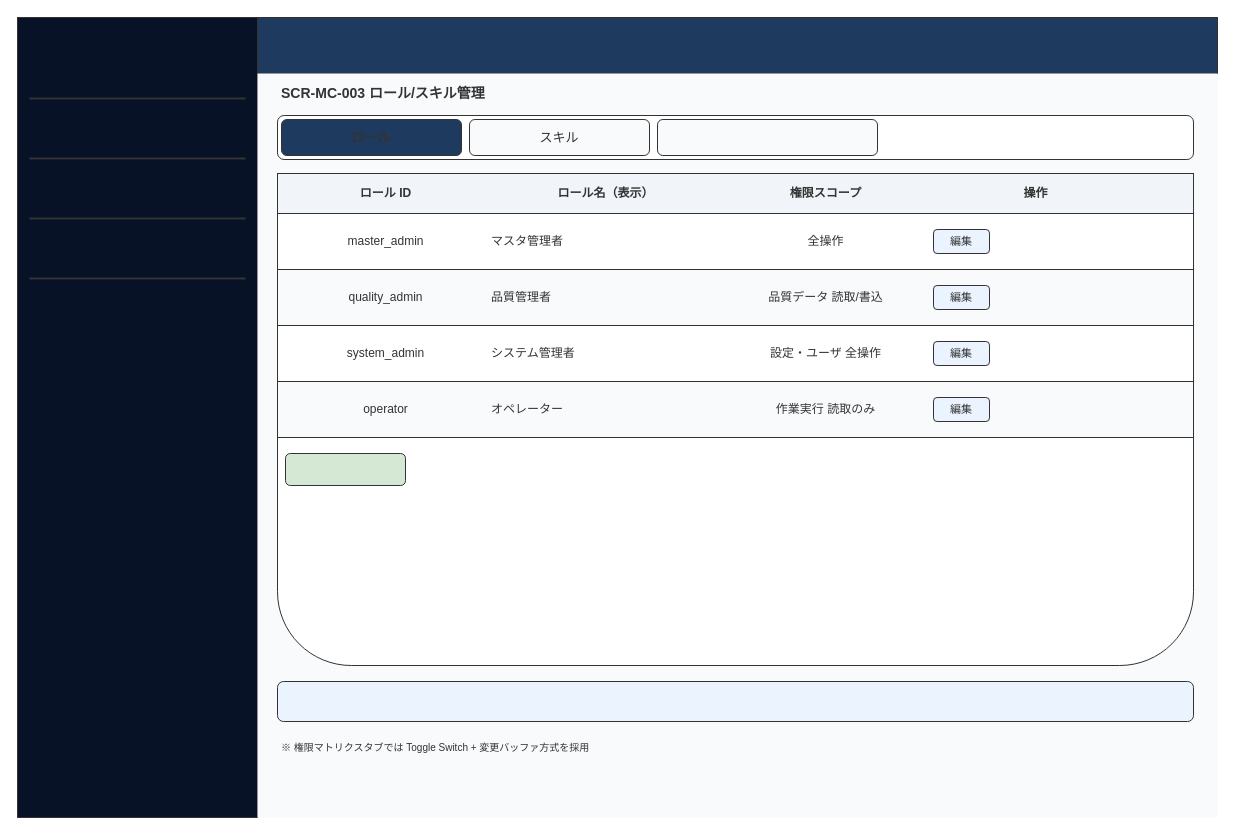
This 1235x835 diagram has some shape labels left out. Each missing label, with the box of its shape:
ロール追加: (284, 452, 406, 486)
変更バッファ: 保存待ち 0 件 | 保存 Cmd+S: (276, 680, 1194, 722)
権限マトリクス: (656, 118, 878, 156)
